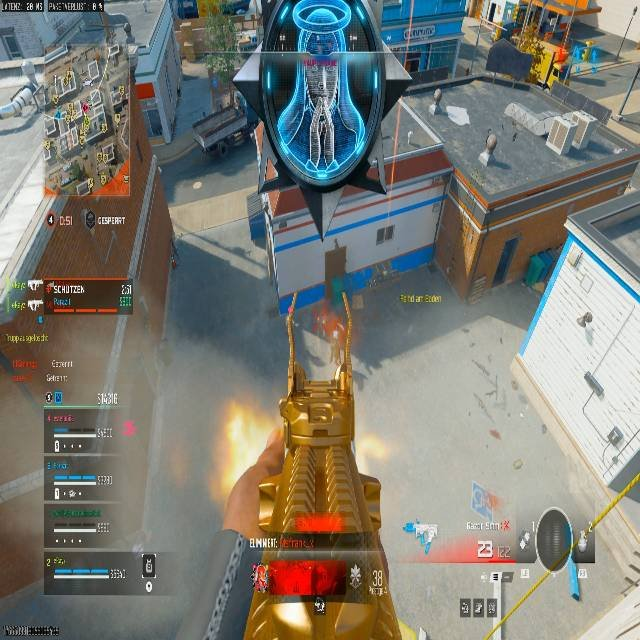head: (263, 0, 403, 188)
